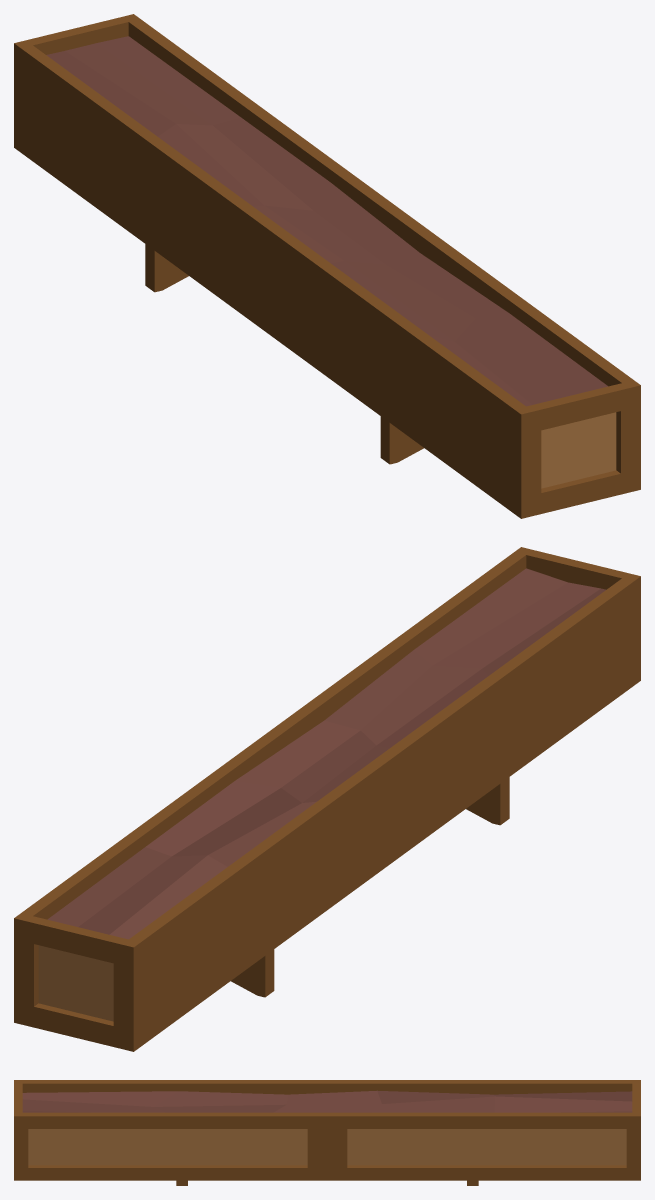
The model's file is Large_Window_box.001.fbx.
3 renders of one model, top to bottom at view 1: azimuth 30°, elevation 25°; view 2: azimuth 150°, elevation 25°; view 3: azimuth 270°, elevation 25°, orthographic. The views are drawn at different scales.
Parts seen in each view (by area): view 1: Large_windowbox; view 2: Large_windowbox; view 3: Large_windowbox.
Boxes of the visible parts, <box> form: Large_windowbox: <box>14,14,640,518</box>; Large_windowbox: <box>14,547,640,1051</box>; Large_windowbox: <box>14,1080,640,1185</box>.
Size of the model in its own units: 0.3 by 0.35 by 2.2.
